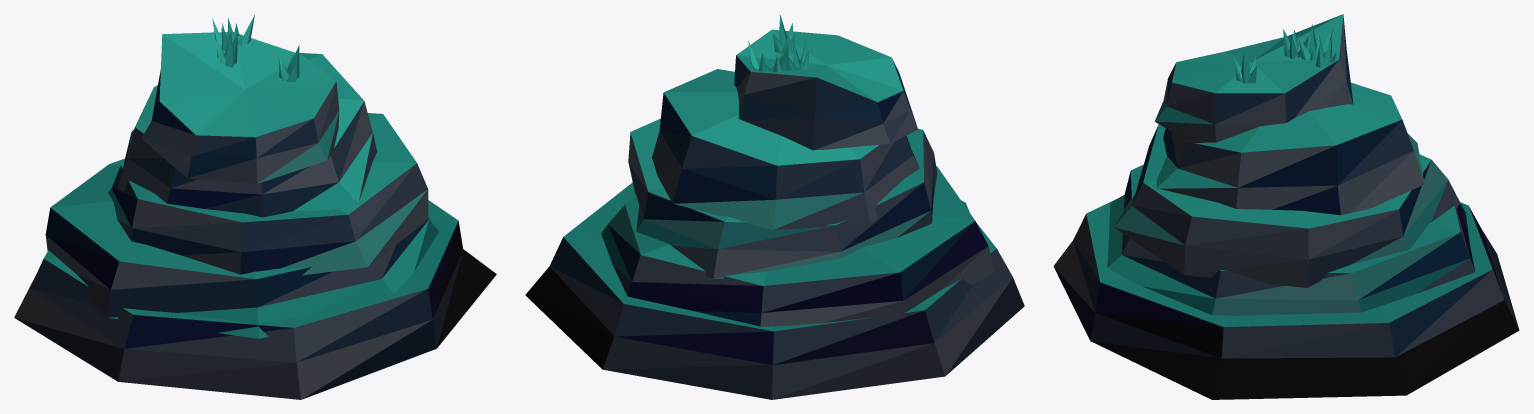
The model's file is batu_slate_basalt_589834.glb.
3 views of the same model, side by side, from view 1: azimuth 30°, elevation 25°; view 2: azimuth 150°, elevation 25°; view 3: azimuth 270°, elevation 25° (orthographic).
Parts seen in each view (by area): view 1: Batu_Pipih_Bertumpuk; view 2: Batu_Pipih_Bertumpuk; view 3: Batu_Pipih_Bertumpuk.
Boxes of the visible parts, left/top/right/bottom form: Batu_Pipih_Bertumpuk: left=14, top=14, right=496, bottom=399; Batu_Pipih_Bertumpuk: left=525, top=14, right=1024, bottom=399; Batu_Pipih_Bertumpuk: left=1053, top=14, right=1519, bottom=399.
Size of the model in its own units: 4.86 by 3.08 by 4.86.
